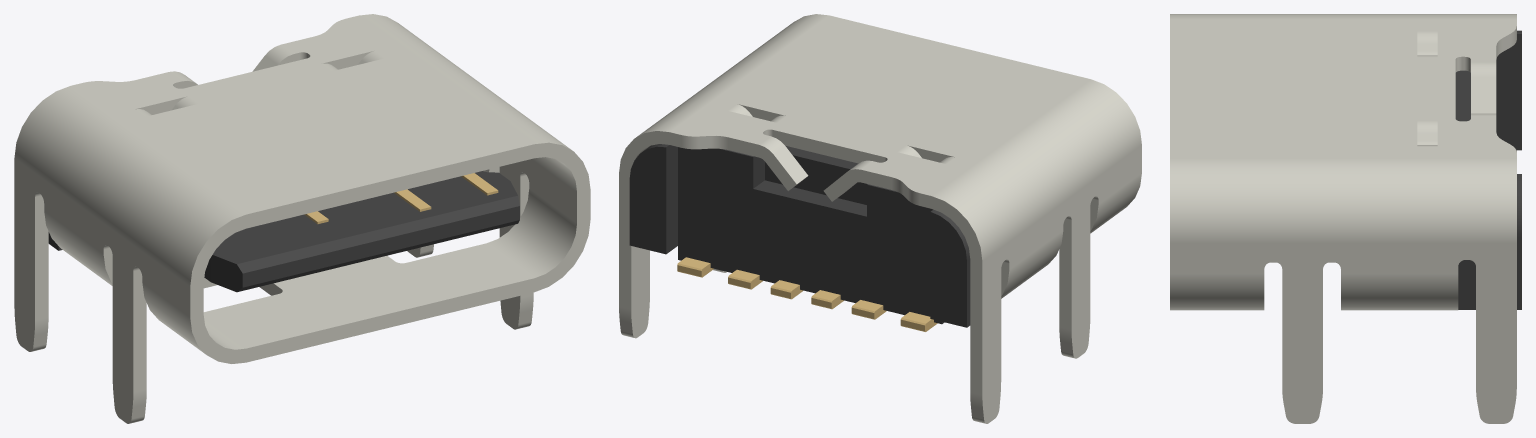
Rendered from Connector_USB__USB_C_Receptacle_GCT_USB4125-xx-x-0190_6P_TopMnt_Horizontal.glb.
The picture shows the model from 3 angles, left to right: view 1: azimuth 30°, elevation 25°; view 2: azimuth 150°, elevation 25°; view 3: azimuth 270°, elevation 25°; orthographic projection. The views are drawn at different scales.
Parts seen in each view (by area): view 1: USB_C_Receptacle_GCT_USB4125-xx-x_6P_TopMnt_Horizontal; view 2: USB_C_Receptacle_GCT_USB4125-xx-x_6P_TopMnt_Horizontal; view 3: USB_C_Receptacle_GCT_USB4125-xx-x_6P_TopMnt_Horizontal.
Part boxes in pixels (x1,y1,x2,y2): USB_C_Receptacle_GCT_USB4125-xx-x_6P_TopMnt_Horizontal: (14, 14, 590, 423); USB_C_Receptacle_GCT_USB4125-xx-x_6P_TopMnt_Horizontal: (619, 14, 1141, 423); USB_C_Receptacle_GCT_USB4125-xx-x_6P_TopMnt_Horizontal: (1170, 14, 1521, 423).
Size of the model in its own units: 0.00894 by 0.00516 by 0.0069.
